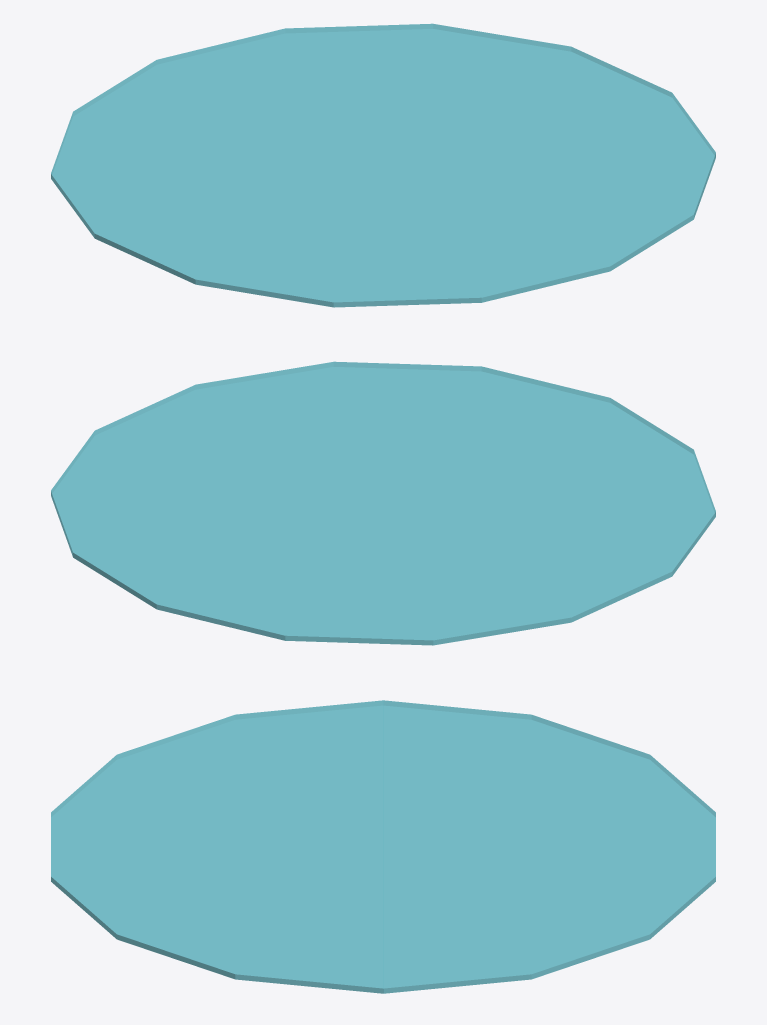
File: puddle.glb
3 renders of one model, top to bottom at view 1: azimuth 30°, elevation 25°; view 2: azimuth 150°, elevation 25°; view 3: azimuth 270°, elevation 25°, orthographic. The views are drawn at different scales.
Parts seen in each view (by area): view 1: puddle; view 2: puddle; view 3: puddle.
Boxes of the visible parts, x1,y1,x2,y2 form: puddle: [51, 23, 715, 307]; puddle: [51, 361, 715, 645]; puddle: [51, 700, 715, 993].
Bounding box in the file's own units: 4 × 0.0352 × 3.9.
